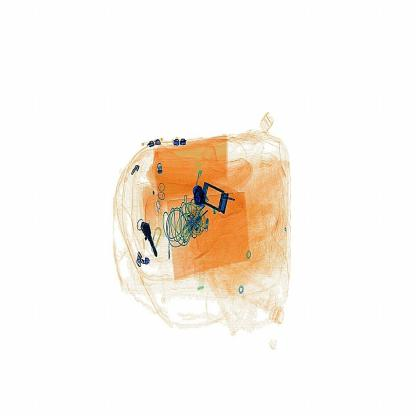scissors: (182, 172, 222, 219)
